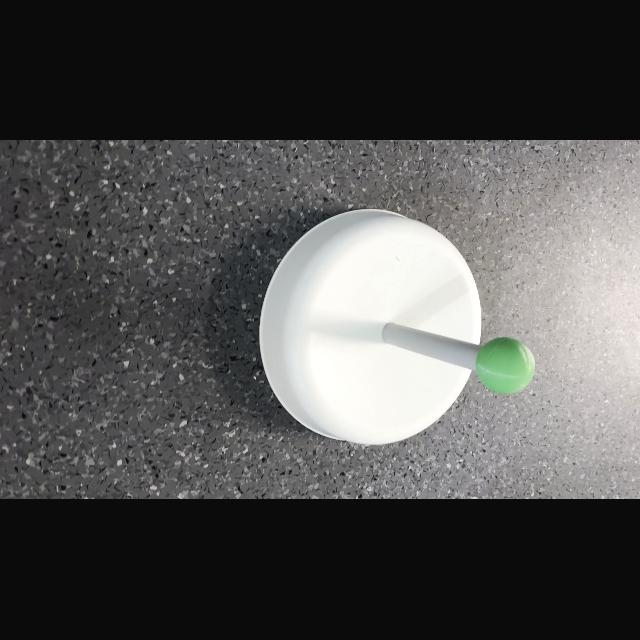objects: (468, 334, 540, 404)
